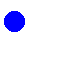circle: (4, 11, 24, 31)
